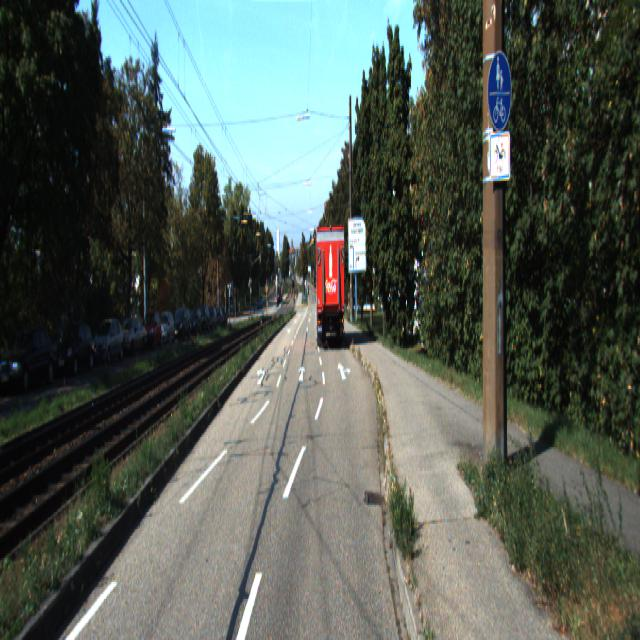Car: (0, 322, 60, 395), (314, 222, 346, 350), (54, 320, 95, 380), (90, 318, 124, 366), (115, 316, 146, 356), (141, 310, 163, 352), (156, 310, 175, 344)
